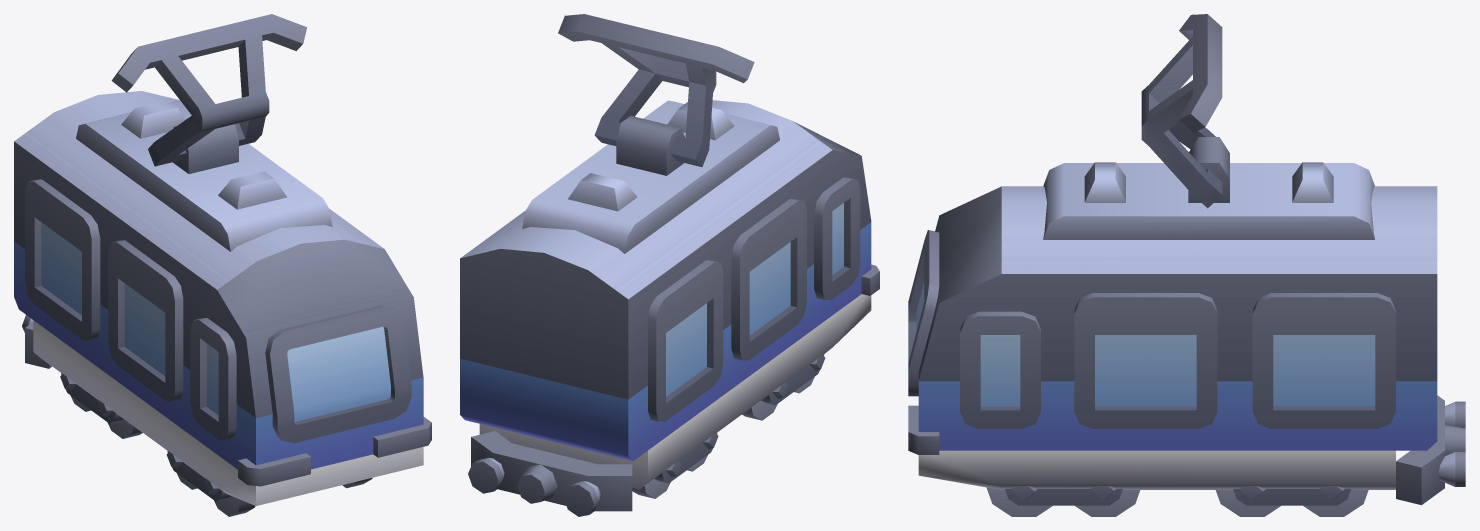
The model's file is train-tram.glb.
3 views of the same model, side by side, from view 1: azimuth 30°, elevation 25°; view 2: azimuth 150°, elevation 25°; view 3: azimuth 270°, elevation 25° (orthographic). The views are drawn at different scales.
Visible parts, largest first — view 1: train-tram-modern; view 2: train-tram-modern; view 3: train-tram-modern.
Part boxes in pixels (box(x1,y1,x2,y2)): train-tram-modern: box(14, 14, 431, 516); train-tram-modern: box(460, 14, 879, 516); train-tram-modern: box(908, 14, 1465, 516).
Size of the model in its own units: 1.13 by 2.3 by 2.69.
Materials: 1 (1 with a texture image).
